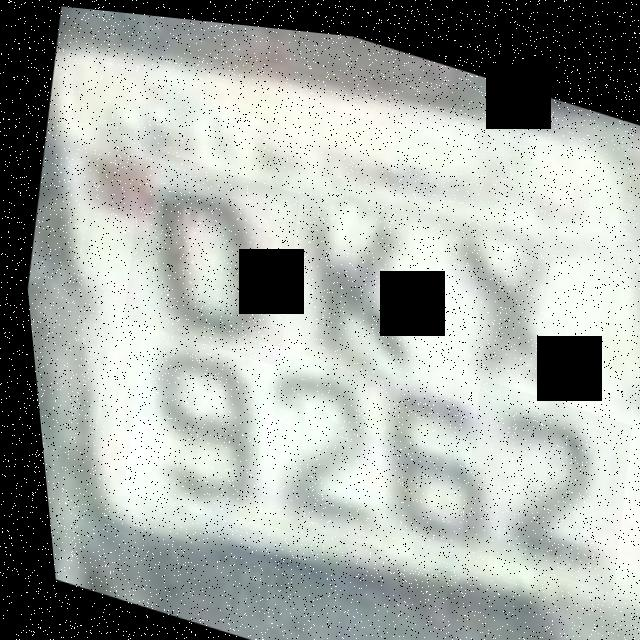2: (437, 366, 638, 584), (219, 333, 407, 546)
6: (335, 348, 514, 571)
9: (99, 300, 289, 531)
O: (104, 141, 309, 364)
R: (249, 162, 454, 386)
